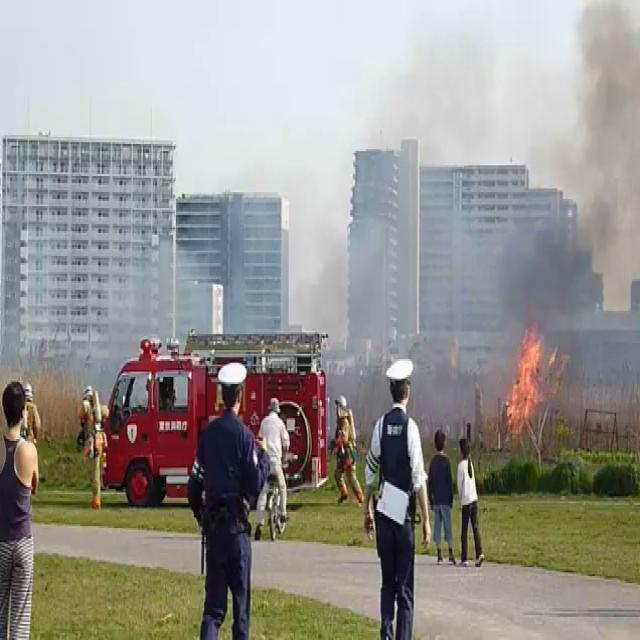Fire: (502, 324, 552, 432)
Smoke: (319, 6, 640, 399)
